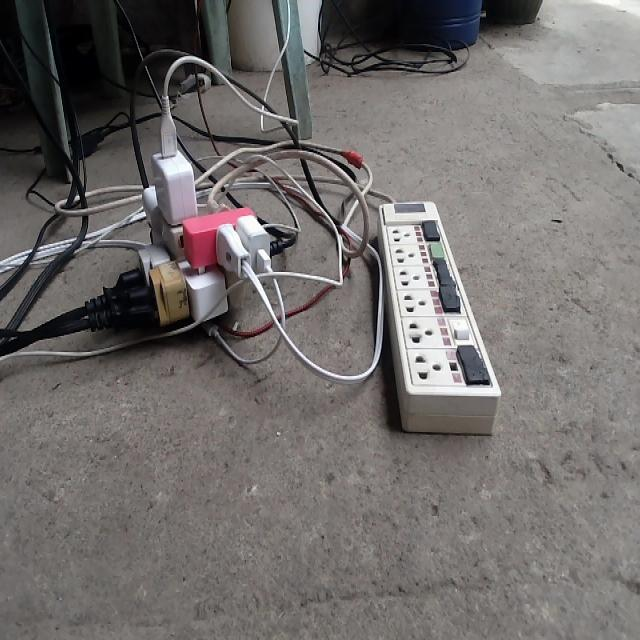-: (81, 53, 290, 339)
